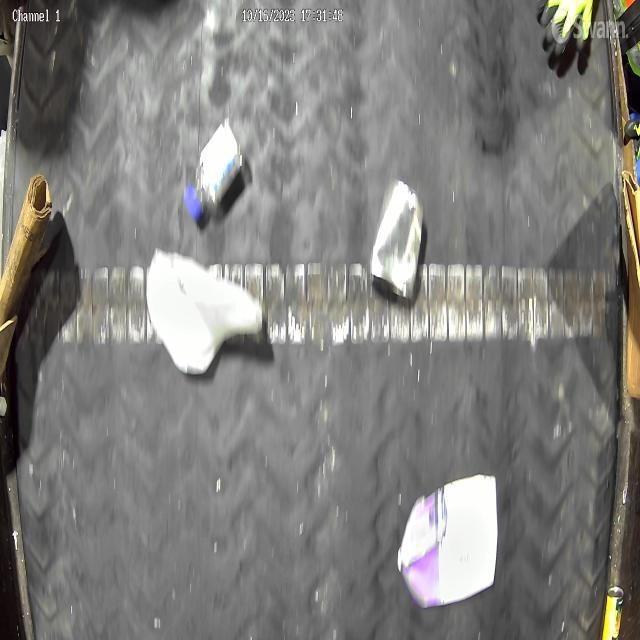can: (368, 180, 429, 316)
milk_jug: (145, 251, 270, 385)
